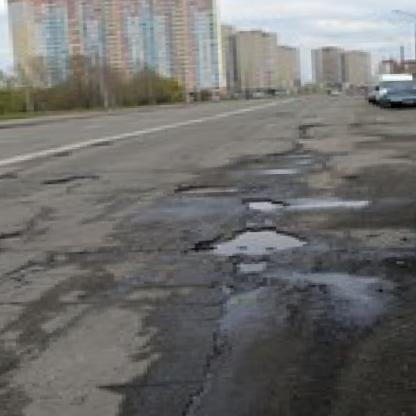pothole: (198, 223, 307, 259), (174, 182, 238, 196), (232, 256, 270, 276), (245, 199, 290, 214), (47, 173, 99, 184)
